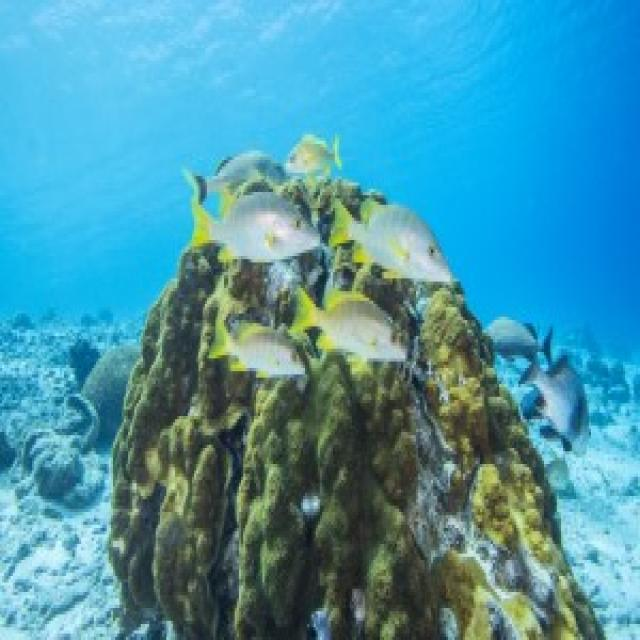Healthy: (110, 251, 216, 606), (464, 449, 581, 638), (236, 382, 312, 638), (152, 407, 231, 638), (411, 462, 522, 593), (344, 341, 432, 503), (436, 519, 551, 638), (317, 356, 364, 638), (423, 289, 492, 465)
